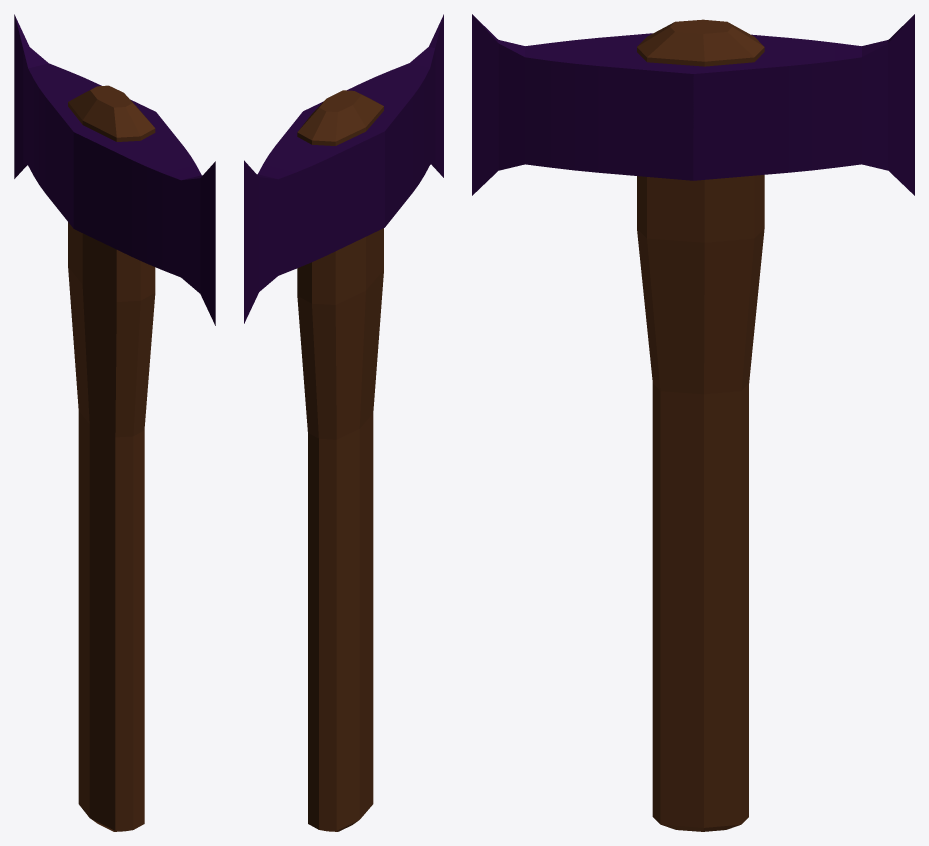
Rendered from AxeGood.fbx.
3 views of the same model, side by side, from view 1: azimuth 30°, elevation 25°; view 2: azimuth 150°, elevation 25°; view 3: azimuth 270°, elevation 25° (orthographic). The views are drawn at different scales.
Parts seen in each view (by area): view 1: Cylinder, Cube; view 2: Cylinder, Cube; view 3: Cylinder, Cube.
Part boxes in pixels (<box>): Cylinder: <box>68,85,155,831</box>; Cube: <box>14,14,215,325</box>; Cylinder: <box>297,90,383,831</box>; Cube: <box>244,14,443,323</box>; Cylinder: <box>637,19,764,831</box>; Cube: <box>472,14,914,195</box>.
Bounding box in the file's own units: 302 × 2581 × 1277.
